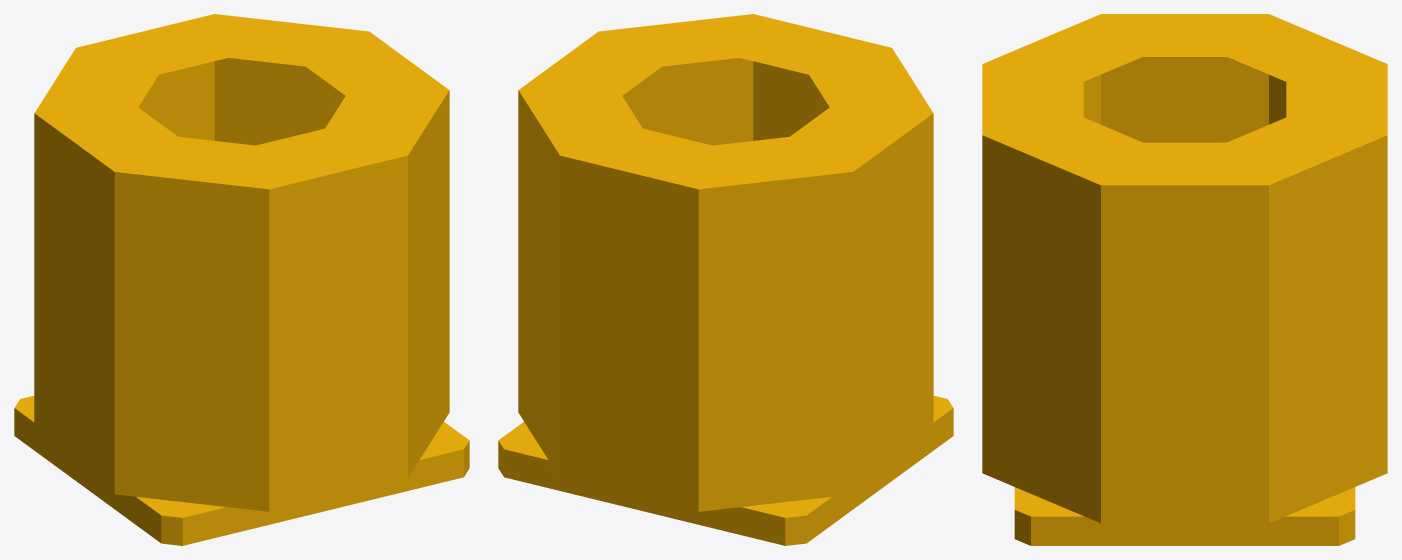
The model's file is modular_engine_clutch_housing_1x1.dae.
3 views of the same model, side by side, from view 1: azimuth 30°, elevation 25°; view 2: azimuth 150°, elevation 25°; view 3: azimuth 270°, elevation 25° (orthographic). The views are drawn at different scales.
Parts seen in each view (by area): view 1: Cube; view 2: Cube; view 3: Cube.
Part boxes in pixels (x1,y1,x2,y2): Cube: (14,14,469,545); Cube: (498,14,953,545); Cube: (982,14,1387,545).
Size of the model in its own units: 0.25 by 0.25 by 0.25.
